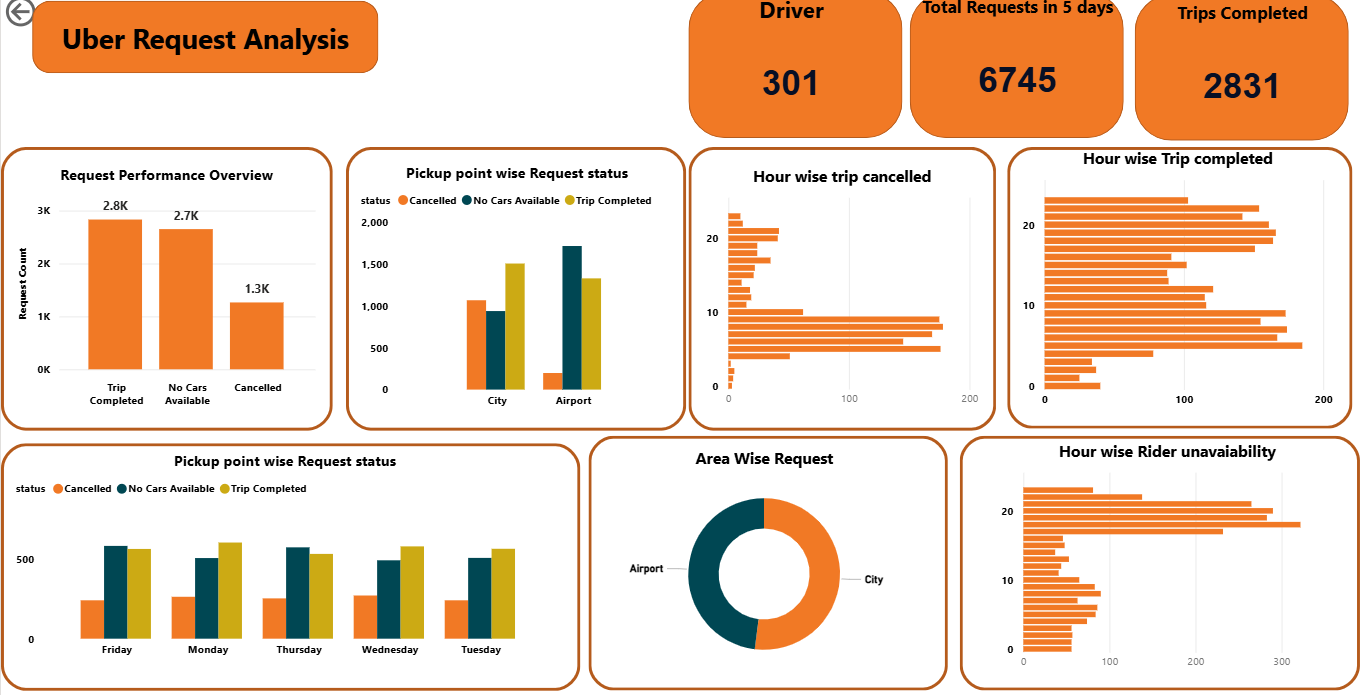

Layout of this report page (visuals, bound fields, positions):
{"tool":"powerbi","page":{"name":"Page 1","canvas":[1400,720],"ordinal":0},"visuals":[{"type":"shape","box":[0,157.7,337.5,288.6],"z":0},{"type":"columnChart","title":"Request Performance Overview","fields":{"Category":["public uber_data.status"],"Y":["CountNonNull(public uber_data.status)"]},"box":[12.2,176.1,311.8,255.6],"z":1000},{"type":"shape","box":[598,451.2,365.6,259.2],"z":2000},{"type":"donutChart","title":"Area Wise Request","fields":{"Category":["public uber_data.pickup_point"],"Y":["CountNonNull(public uber_data.pickup_point)"]},"box":[606.5,463.5,339.9,237.2],"z":3000},{"type":"shape","box":[351,157.7,346.1,288.6],"z":4000},{"type":"clusteredColumnChart","title":"Pickup point wise Request status","fields":{"Series":["public uber_data.status"],"Category":["public uber_data.pickup_point"],"Y":["CountNonNull(public uber_data.pickup_point)"]},"box":[360.7,172.4,327.7,259.2],"z":5000},{"type":"actionButton","box":[0,0,100,40],"z":6000},{"type":"shape","box":[0,458.6,589.4,251.9],"z":7000},{"type":"clusteredColumnChart","title":"Pickup point wise Request status","fields":{"Series":["public uber_data.status"],"Y":["CountNonNull(public uber_data.status)"],"Category":["public uber_data.request_weekday"]},"box":[9.8,467.1,557.6,218.9],"z":8000},{"type":"shape","box":[699.5,157.7,313,288.6],"z":9000},{"type":"clusteredBarChart","title":"Hour wise trip cancelled","fields":{"Category":["public uber_data.request_hour"],"Y":["CountNonNull(public uber_data.status)"]},"box":[711.7,176.1,287.4,255.6],"z":10000},{"type":"shape","box":[975.8,451.2,407.2,259.2],"z":11000},{"type":"clusteredBarChart","title":"Hour wise Rider unavaiability","fields":{"Category":["public uber_data.request_hour"],"Y":["CountNonNull(public uber_data.status)"]},"box":[1012.5,454.9,348.5,243.3],"z":12000},{"type":"shape","box":[1023.6,157.6,351.2,286.7],"z":13000},{"type":"clusteredBarChart","title":"Hour wise Trip completed","fields":{"Category":["public uber_data.request_hour"],"Y":["CountNonNull(public uber_data.status)"]},"box":[1034.5,157.7,326.5,273.9],"z":14000},{"type":"shape","box":[699.4,0,217.6,148.6],"z":15000},{"type":"card","title":"Driver","fields":{"Values":["Count(public uber_data.driver_id)"]},"box":[684.4,1.5,240.1,148.6],"z":16000},{"type":"shape","box":[924.5,0,217.6,148.6],"z":17000},{"type":"shape","box":[1154.2,3,217.6,148.6],"z":18000},{"type":"card","title":"Total Requests in 5 days","fields":{"Values":["Count(public uber_data.request_id)"]},"box":[914,3,240.1,148.6],"z":19000},{"type":"card","title":"Trips Completed","fields":{"Values":["CountNonNull(public uber_data.driver_id)"]},"box":[1143.7,9,240.1,148.6],"z":20000},{"type":"shape","box":[31.5,9,511.8,73.5],"z":21000}]}

Visuals, with their boxes in screenshot pixels (x1, y1, x2, y2), scaled from the page's 1400x720 canvas onto the 1366x695 screenshot:
shape: (0, 152, 329, 431)
"Request Performance Overview" columnChart: (12, 170, 316, 417)
shape: (583, 436, 940, 686)
"Area Wise Request" donutChart: (592, 447, 923, 676)
shape: (342, 152, 680, 431)
"Pickup point wise Request status" clusteredColumnChart: (352, 166, 672, 417)
actionButton: (0, 0, 98, 39)
shape: (0, 443, 575, 686)
"Pickup point wise Request status" clusteredColumnChart: (10, 451, 554, 662)
shape: (683, 152, 988, 431)
"Hour wise trip cancelled" clusteredBarChart: (694, 170, 975, 417)
shape: (952, 436, 1349, 686)
"Hour wise Rider unavaiability" clusteredBarChart: (988, 439, 1328, 674)
shape: (999, 152, 1341, 429)
"Hour wise Trip completed" clusteredBarChart: (1009, 152, 1328, 417)
shape: (682, 0, 895, 143)
"Driver" card: (668, 1, 902, 145)
shape: (902, 0, 1114, 143)
shape: (1126, 3, 1338, 146)
"Total Requests in 5 days" card: (892, 3, 1126, 146)
"Trips Completed" card: (1116, 9, 1350, 152)
shape: (31, 9, 530, 80)
